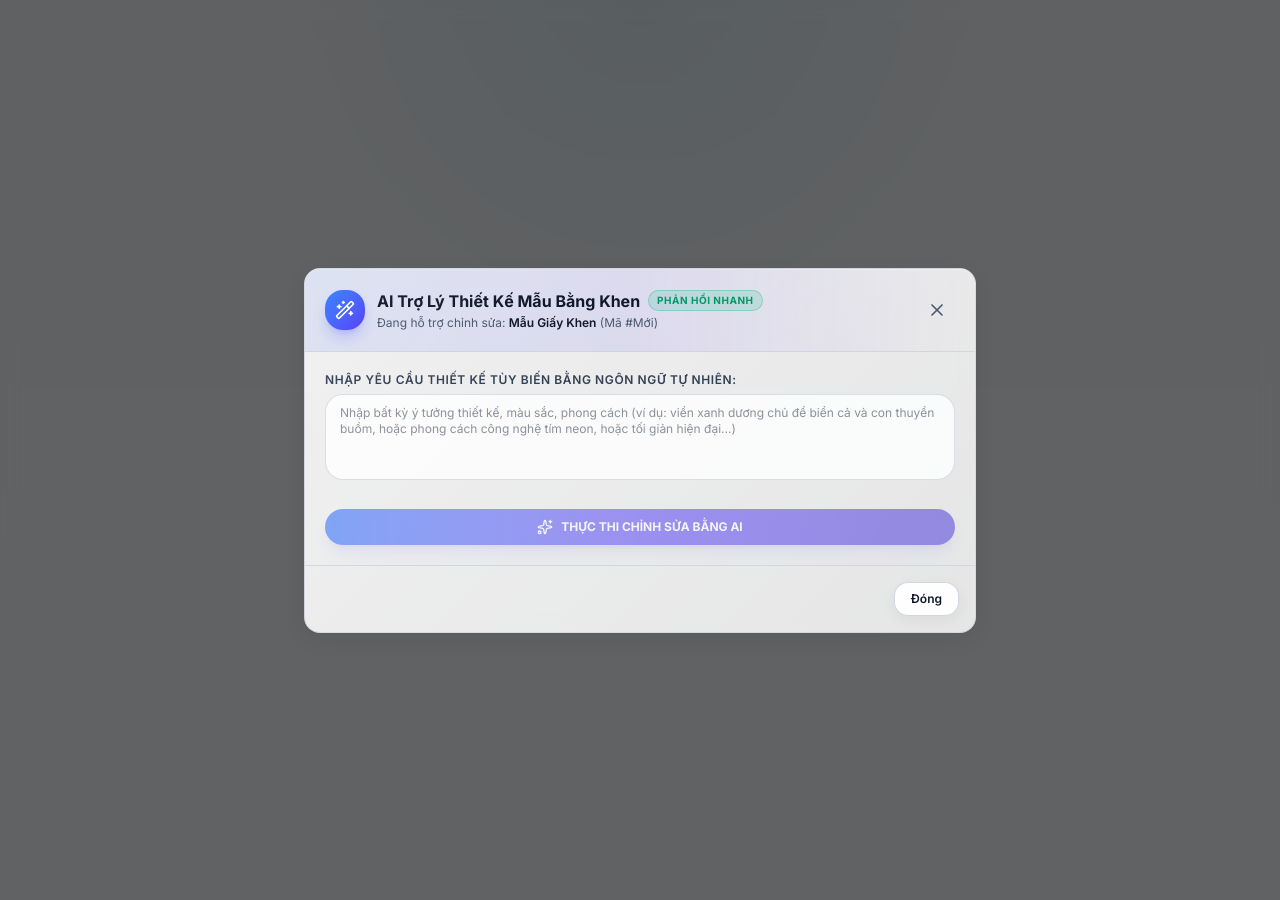
Certificate prompt editing › never offers apply after an AI failure
Replace the text in the text box with "nền vàng": (640,436) [325, 394, 955, 480]
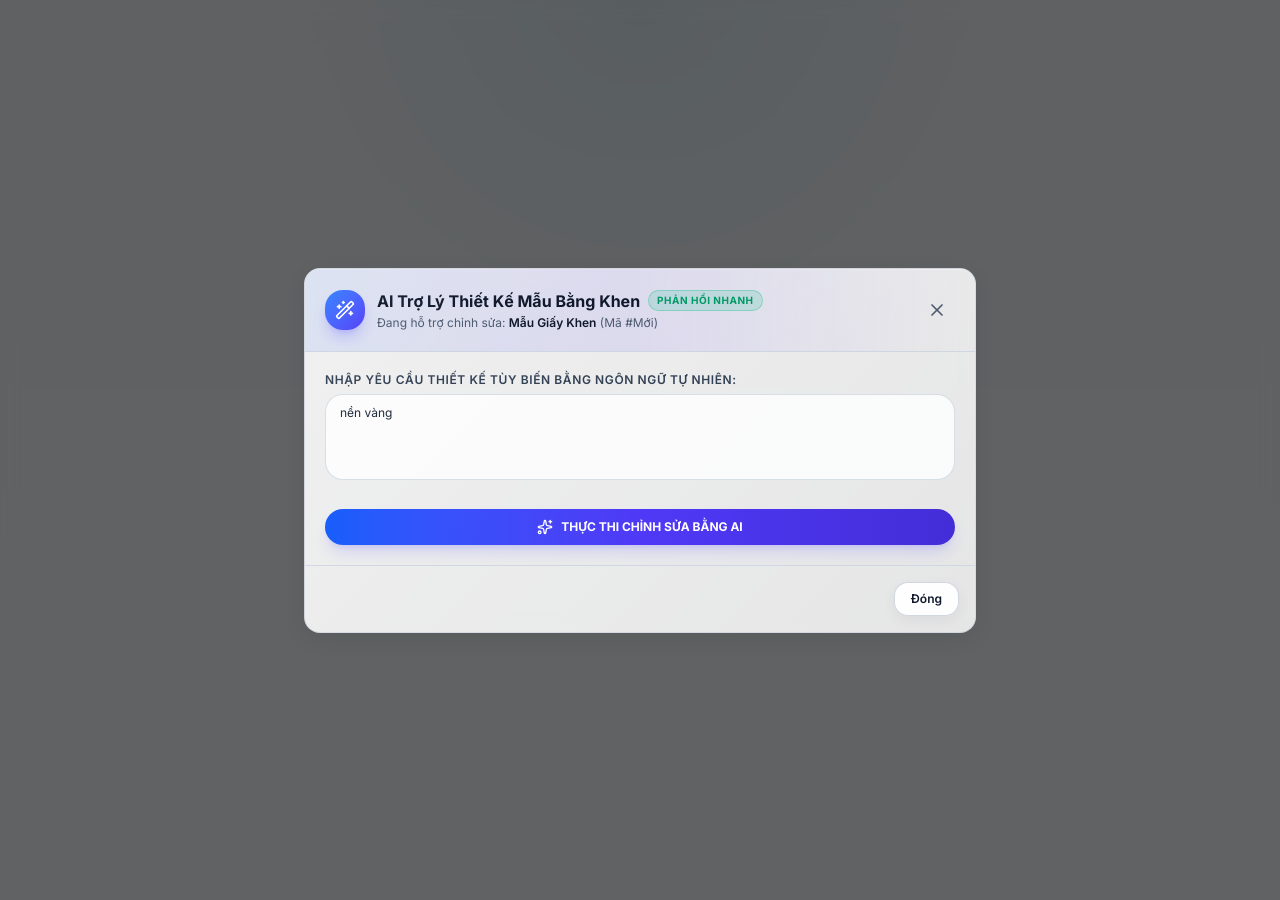
Click the button "THỰC THI CHỈNH SỬA BẰNG AI": (640,526) [325, 508, 955, 544]
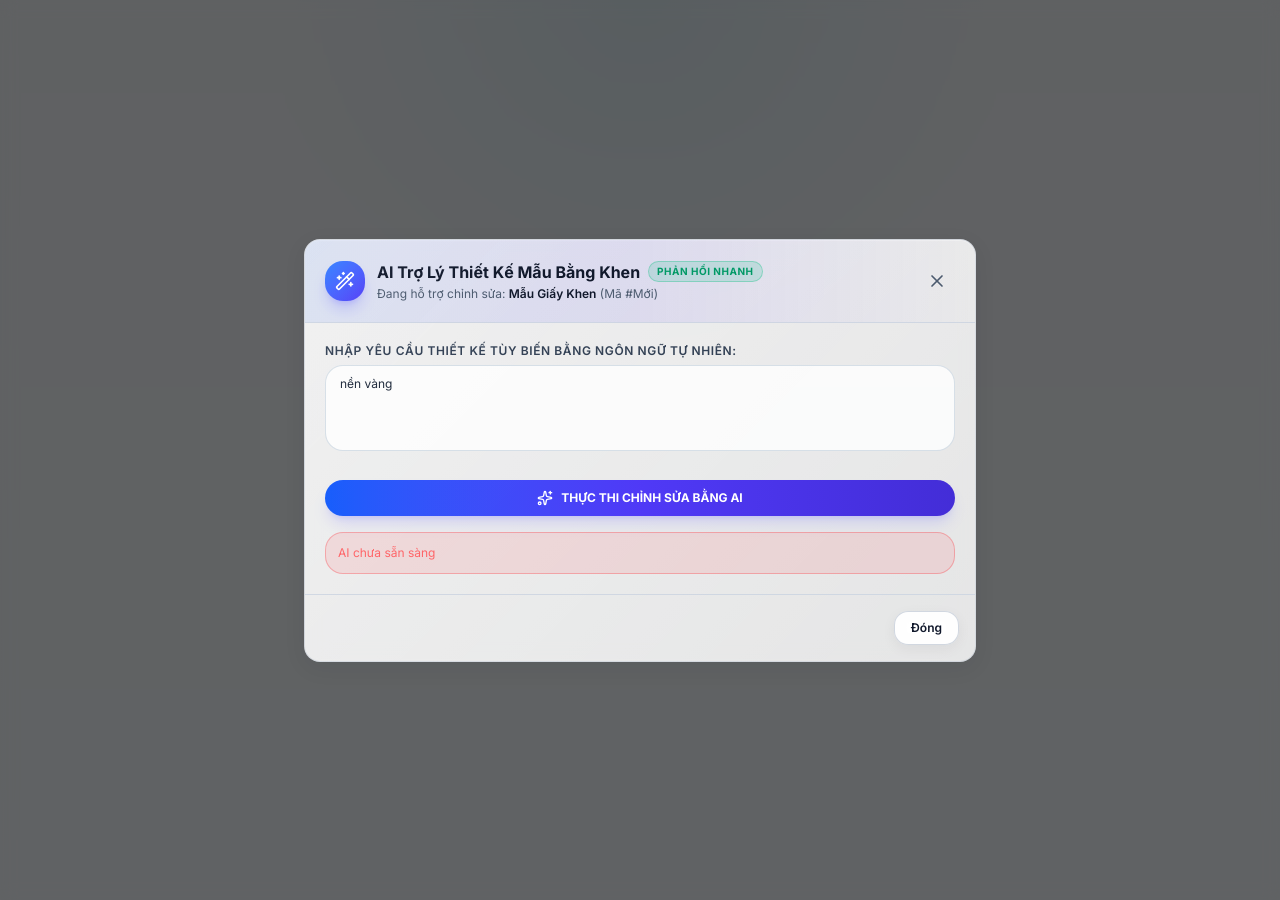
Now the text "AI chưa sẵn sàng" is shown, box [325, 532, 955, 574]
